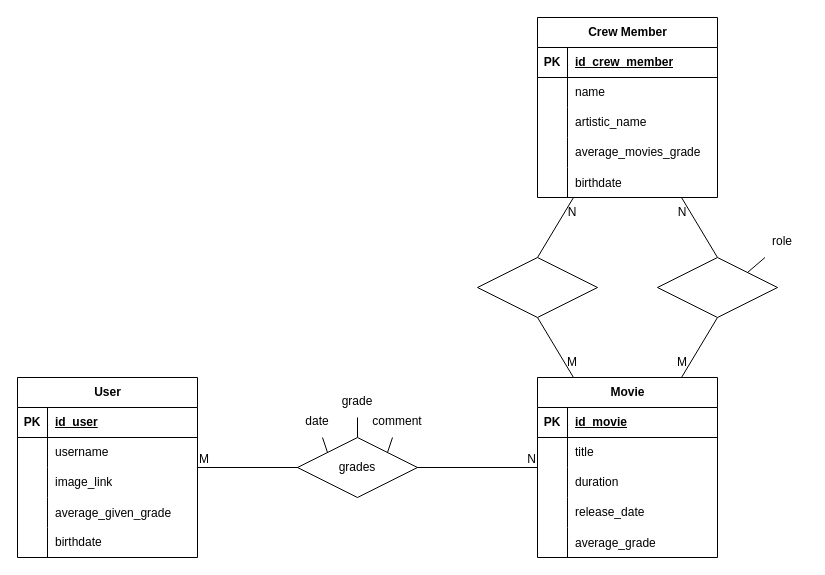
Some shapes in this 825 by 575 pixel diagram are drawn without their labels. The shapes that lost their labels are listed below. From the top down, each one's box as (x1, y1, x2, y2) in pixels, then its label:
(476, 256, 598, 318): directs
(656, 256, 778, 318): acts
